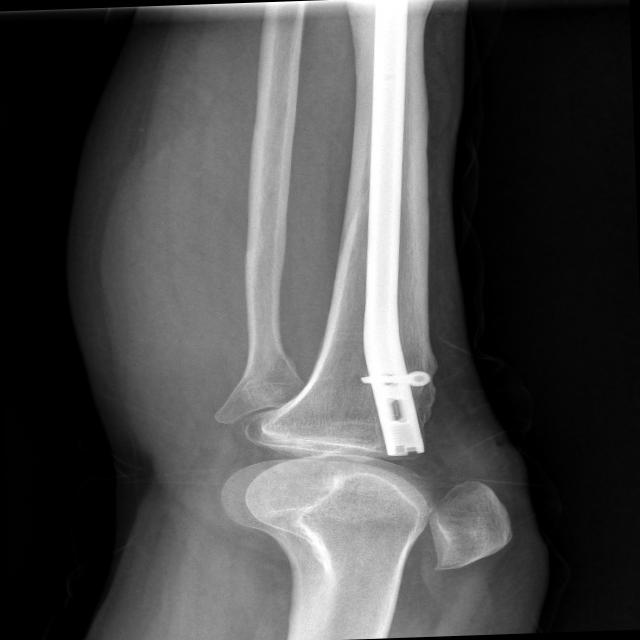Knee: (214, 387, 513, 582)
